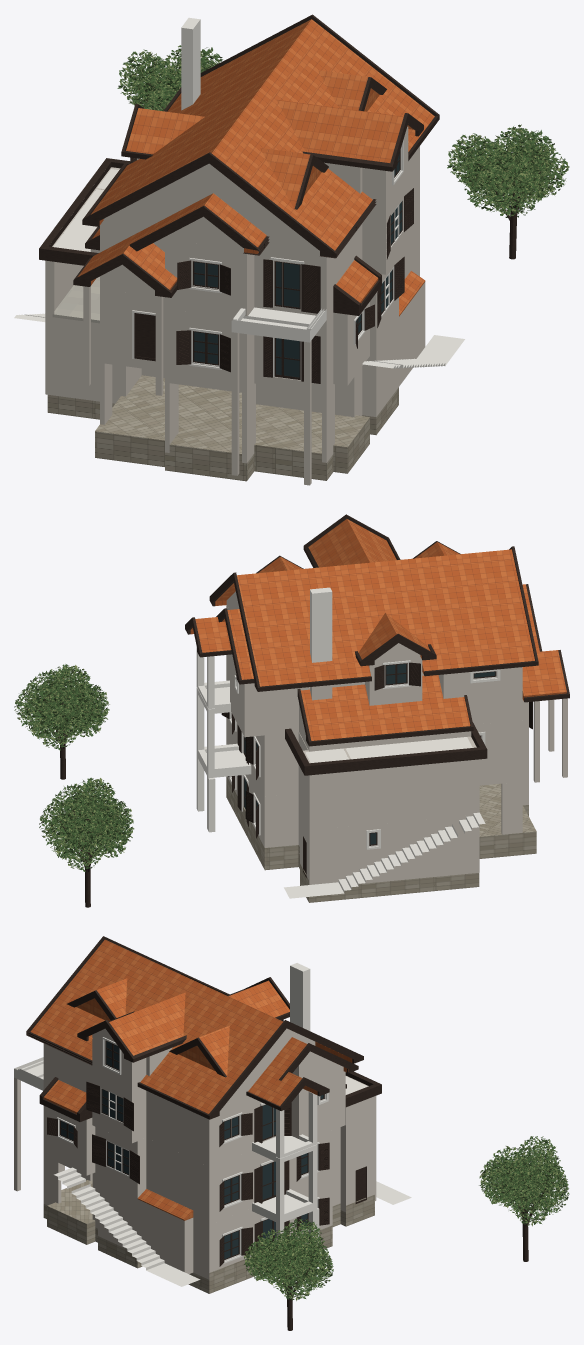
Rendered from context-detail-b23.glb.
The picture shows the model from 3 angles, top to bottom: view 1: azimuth 30°, elevation 25°; view 2: azimuth 150°, elevation 25°; view 3: azimuth 270°, elevation 25°; orthographic projection. The views are drawn at different scales.
Parts seen in each view (by area): view 1: B23 | ÇATII.003, B23 foundation below BK, B23 | KAT 0$DUVAR, B23 | KAT 1$DUVAR, B23 | KAT 2$DUVAR, B23 | KAT 3$DUVAR, B23 | ÇATI ALIN.002, Individual folded leaves.001, B23 | ÇATI ALIN.001, Individual folded leaves.002, B23 | PENCERE_KAPI$SHUTTER.001, B23 | ÇATII.002 (+15 smaller); view 2: B23 | ÇATII.003, B23 | KAT 1$DUVAR, B23 | KAT 0$DUVAR, B23 | KAT 2$DUVAR, B23 | ÇATII.002, B23 foundation below BK, Individual folded leaves.002, Individual folded leaves.001, B23 | ek dalgalar, B23 | ÇATI ALIN.002, B23 | ÇATI ALIN.001, B23 | ÇATI ALIN (+8 smaller); view 3: B23 | ÇATII.003, B23 | KAT 1$DUVAR, B23 | KAT 2$DUVAR, B23 | KAT 0$DUVAR, B23 | ÇATI ALIN.002, Individual folded leaves.002, B23 | ek dalgalar, Individual folded leaves.001, B23 foundation below BK, B23 | KAT 3$DUVAR, B23 | PENCERE_KAPI$SHUTTER.001, B23 | ek dalgalar.001 (+12 smaller).
Part boxes in pixels (x1=…): B23 | ÇATII.003: x1=90, y1=19, x2=434, y2=253; B23 foundation below BK: x1=47, y1=375, x2=398, y2=481; B23 | KAT 0$DUVAR: x1=45, y1=268, x2=425, y2=485; B23 | KAT 1$DUVAR: x1=45, y1=167, x2=419, y2=395; B23 | KAT 2$DUVAR: x1=90, y1=146, x2=419, y2=318; B23 | KAT 3$DUVAR: x1=103, y1=126, x2=408, y2=249; B23 | ÇATI ALIN.002: x1=82, y1=14, x2=439, y2=257; Individual folded leaves.001: x1=447, y1=124, x2=569, y2=217; B23 | ÇATI ALIN.001: x1=73, y1=87, x2=439, y2=308; Individual folded leaves.002: x1=117, y1=45, x2=222, y2=111; B23 | PENCERE_KAPI$SHUTTER.001: x1=176, y1=256, x2=404, y2=383; B23 | ÇATII.002: x1=78, y1=219, x2=377, y2=302; B23 | ÇATII.003: x1=191, y1=519, x2=539, y2=686; B23 | KAT 1$DUVAR: x1=226, y1=663, x2=567, y2=830; B23 | KAT 0$DUVAR: x1=226, y1=701, x2=539, y2=884; B23 | KAT 2$DUVAR: x1=226, y1=605, x2=522, y2=751; B23 | ÇATII.002: x1=190, y1=600, x2=566, y2=740; B23 foundation below BK: x1=226, y1=776, x2=536, y2=902; Individual folded leaves.002: x1=39, y1=777, x2=134, y2=871; Individual folded leaves.001: x1=14, y1=664, x2=109, y2=750; B23 | ek dalgalar: x1=196, y1=691, x2=485, y2=898; B23 | ÇATI ALIN.002: x1=185, y1=514, x2=542, y2=690; B23 | ÇATI ALIN.001: x1=185, y1=597, x2=569, y2=746; B23 | ÇATI ALIN: x1=285, y1=722, x2=487, y2=775; B23 | ÇATII.003: x1=30, y1=939, x2=338, y2=1113; B23 | KAT 1$DUVAR: x1=43, y1=1076, x2=376, y2=1224; B23 | KAT 2$DUVAR: x1=43, y1=1043, x2=345, y2=1166; B23 | KAT 0$DUVAR: x1=14, y1=1077, x2=376, y2=1279; B23 | ÇATI ALIN.002: x1=26, y1=936, x2=363, y2=1115; Individual folded leaves.002: x1=479, y1=1136, x2=569, y2=1226; B23 | ek dalgalar: x1=54, y1=1162, x2=411, y2=1286; Individual folded leaves.001: x1=244, y1=1219, x2=333, y2=1300; B23 foundation below BK: x1=43, y1=1180, x2=374, y2=1293; B23 | KAT 3$DUVAR: x1=92, y1=1028, x2=343, y2=1105; B23 | PENCERE_KAPI$SHUTTER.001: x1=47, y1=1117, x2=329, y2=1211; B23 | ek dalgalar.001: x1=14, y1=1061, x2=317, y2=1234.
Bounding box in the file's own units: 26.24 × 14.71 × 28.4.
12 materials, 12 textured.
